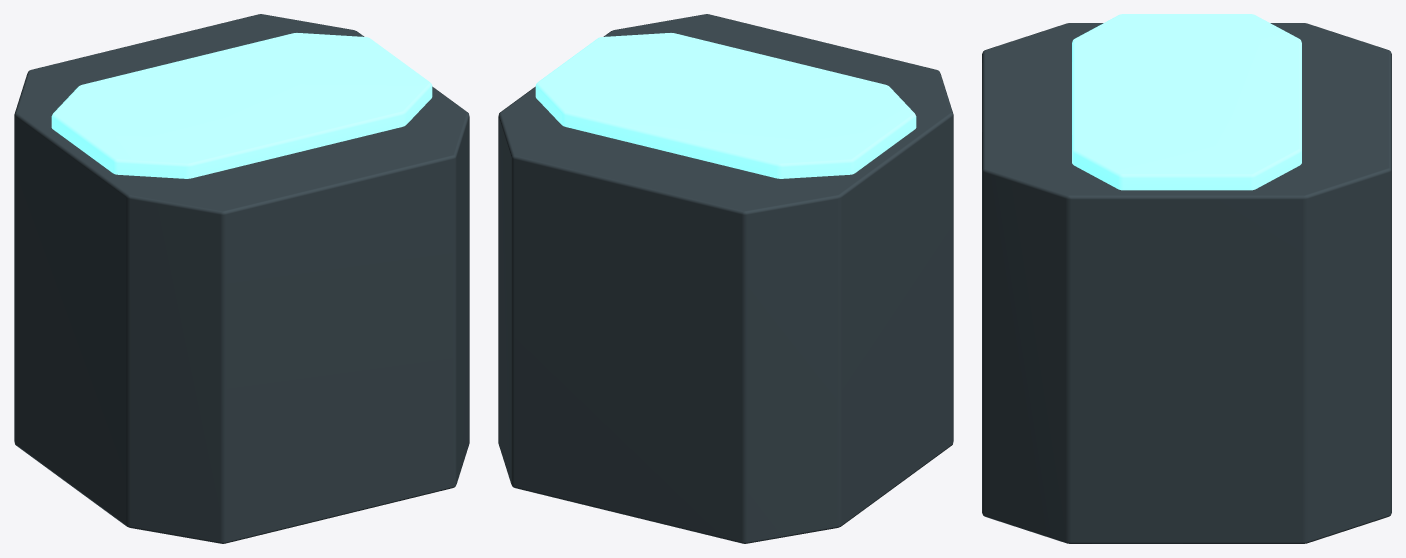
Rendered from Trim.fbx.
3 renders of one model, left to right at view 1: azimuth 30°, elevation 25°; view 2: azimuth 150°, elevation 25°; view 3: azimuth 270°, elevation 25°, orthographic. The views are drawn at different scales.
Visible parts, largest first — view 1: TrimSeat, TrimSignal; view 2: TrimSeat, TrimSignal; view 3: TrimSeat, TrimSignal.
Part boxes in pixels (x1=…): TrimSeat: x1=14, y1=14, x2=469, y2=543; TrimSignal: x1=51, y1=33, x2=432, y2=178; TrimSeat: x1=498, y1=14, x2=953, y2=543; TrimSignal: x1=535, y1=33, x2=916, y2=178; TrimSeat: x1=982, y1=23, x2=1391, y2=543; TrimSignal: x1=1072, y1=14, x2=1301, y2=190.
Bounding box in the file's own units: 0.99 × 0.96 × 0.98.
